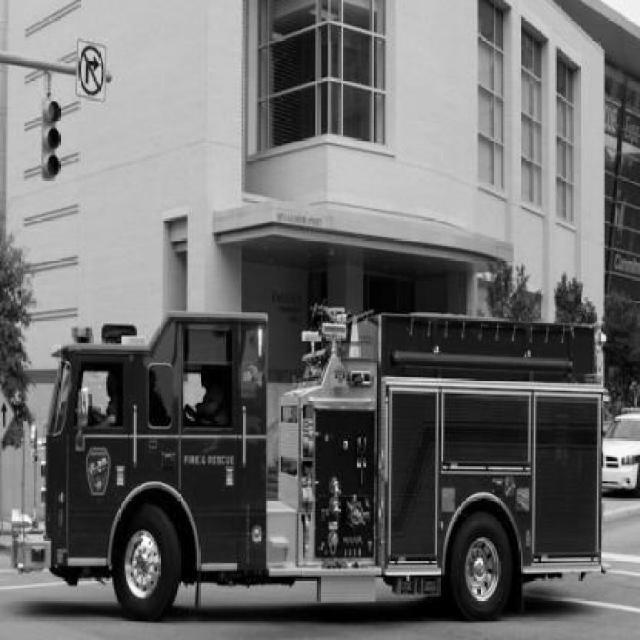Fire Truck: (8, 306, 608, 624)
